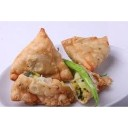samosa: (10, 27, 72, 81), (62, 35, 111, 70)
